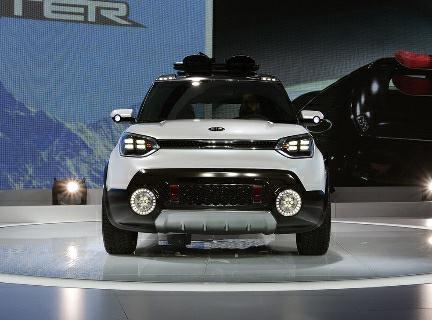起亚-Soul: (95, 54, 341, 260)
